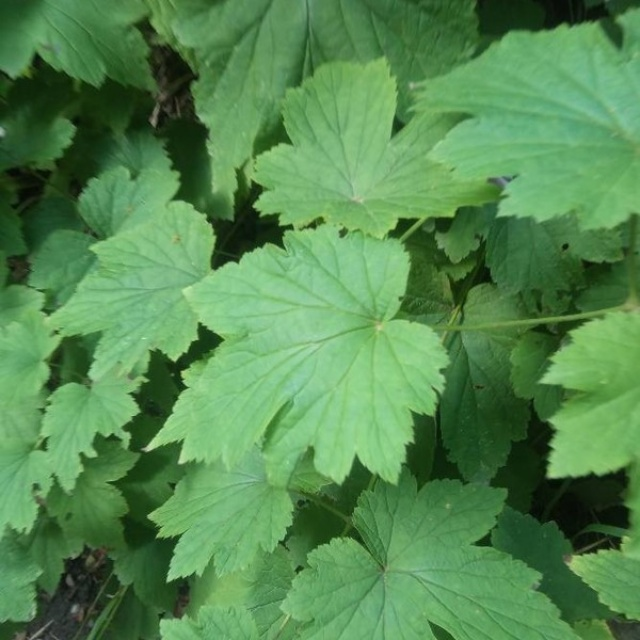obstacle: (17, 19, 610, 619)
